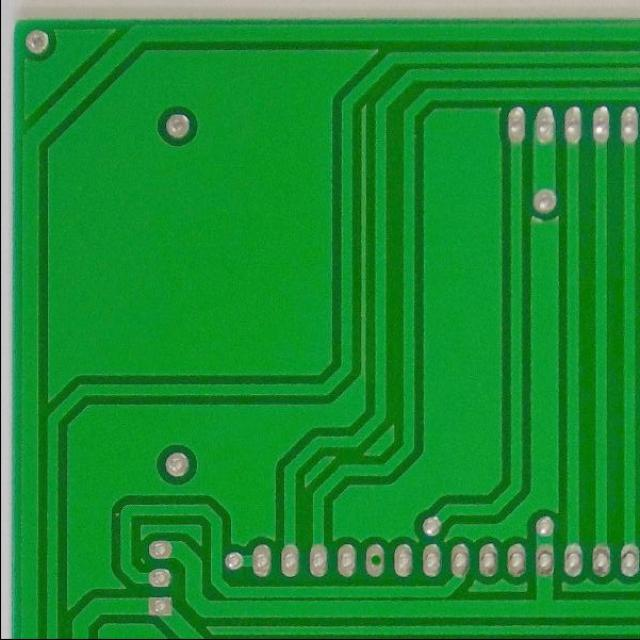Missing_Hole: (361, 542, 388, 577)
